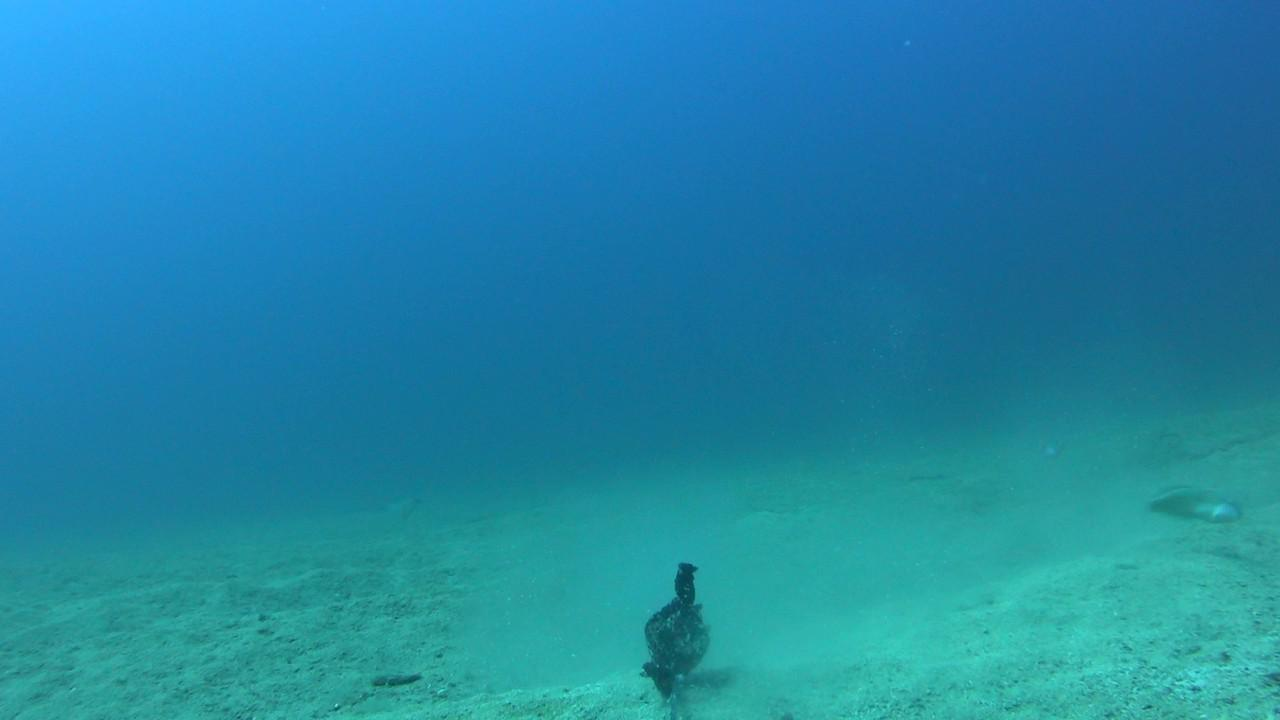myliobatis: (330, 487, 443, 530)
